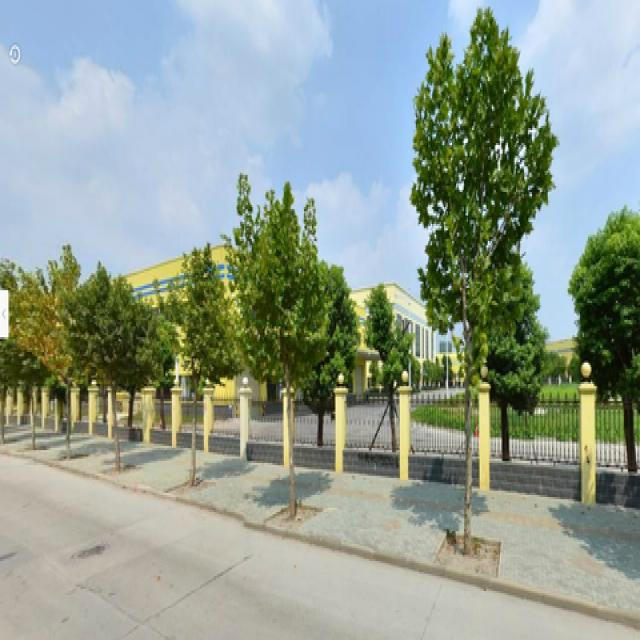meta: (408, 60, 511, 548), (242, 215, 326, 525), (165, 247, 220, 478), (85, 280, 147, 467)
